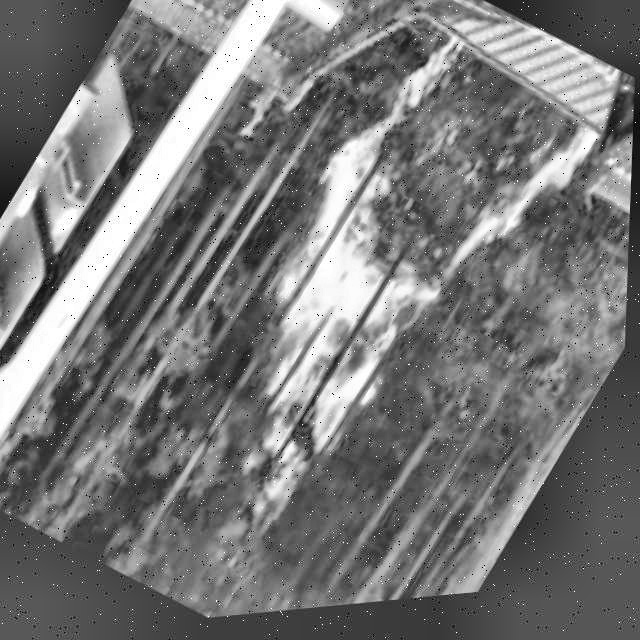Fire: (162, 21, 608, 564)
